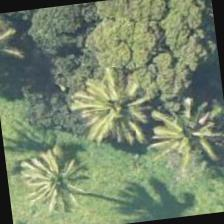Kelapa_Sawit: (133, 81, 223, 182)
